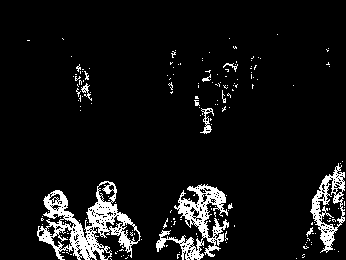person: (82, 177, 141, 260), (35, 188, 93, 260), (195, 67, 224, 134), (73, 62, 94, 111)
